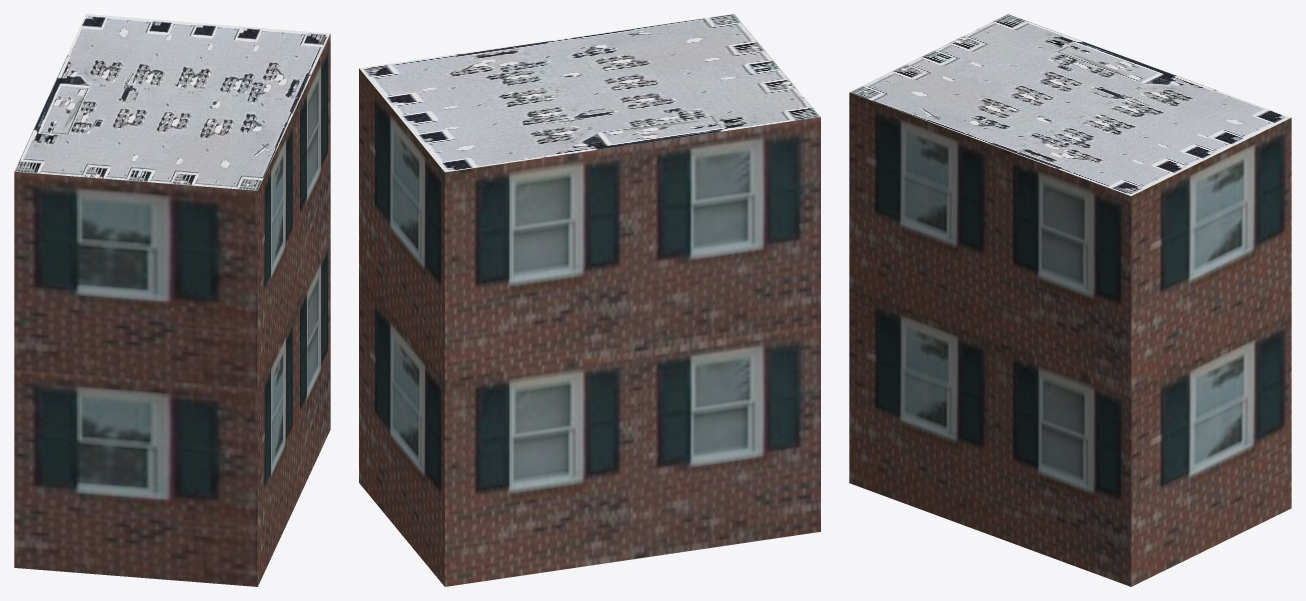
The model's file is ResTex__1760.fbx.
3 renders of one model, left to right at view 1: azimuth 30°, elevation 25°; view 2: azimuth 150°, elevation 25°; view 3: azimuth 270°, elevation 25°, orthographic. The views are drawn at different scales.
Parts seen in each view (by area): view 1: CityEngineMaterial_14_m, CityEngineMaterial_8_m; view 2: CityEngineMaterial_14_m, CityEngineMaterial_8_m; view 3: CityEngineMaterial_14_m, CityEngineMaterial_8_m.
Boxes of the visible parts, left/top/right/bottom form: CityEngineMaterial_14_m: left=14, top=34, right=330, bottom=586; CityEngineMaterial_8_m: left=14, top=14, right=330, bottom=190; CityEngineMaterial_14_m: left=359, top=68, right=820, bottom=586; CityEngineMaterial_8_m: left=359, top=14, right=820, bottom=172; CityEngineMaterial_14_m: left=849, top=92, right=1291, bottom=586; CityEngineMaterial_8_m: left=849, top=14, right=1290, bottom=195.
Size of the model in its own units: 6 by 6 by 6.16.
2 materials, 2 textured.
